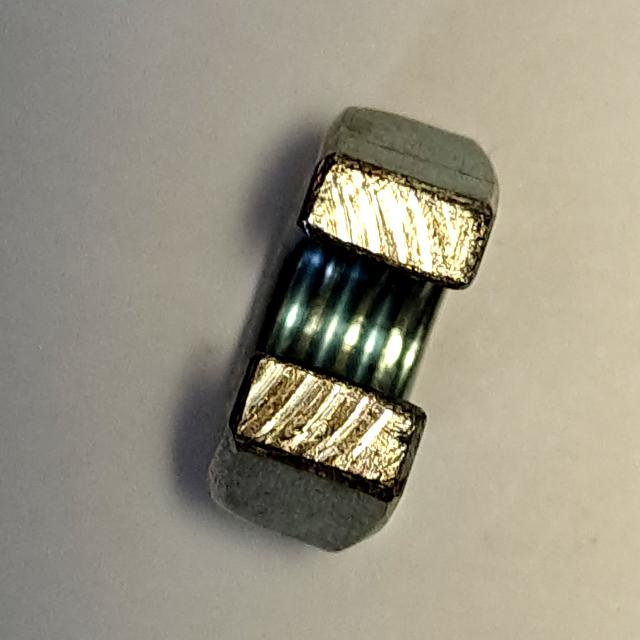Side-Fracture: (192, 96, 506, 568)
